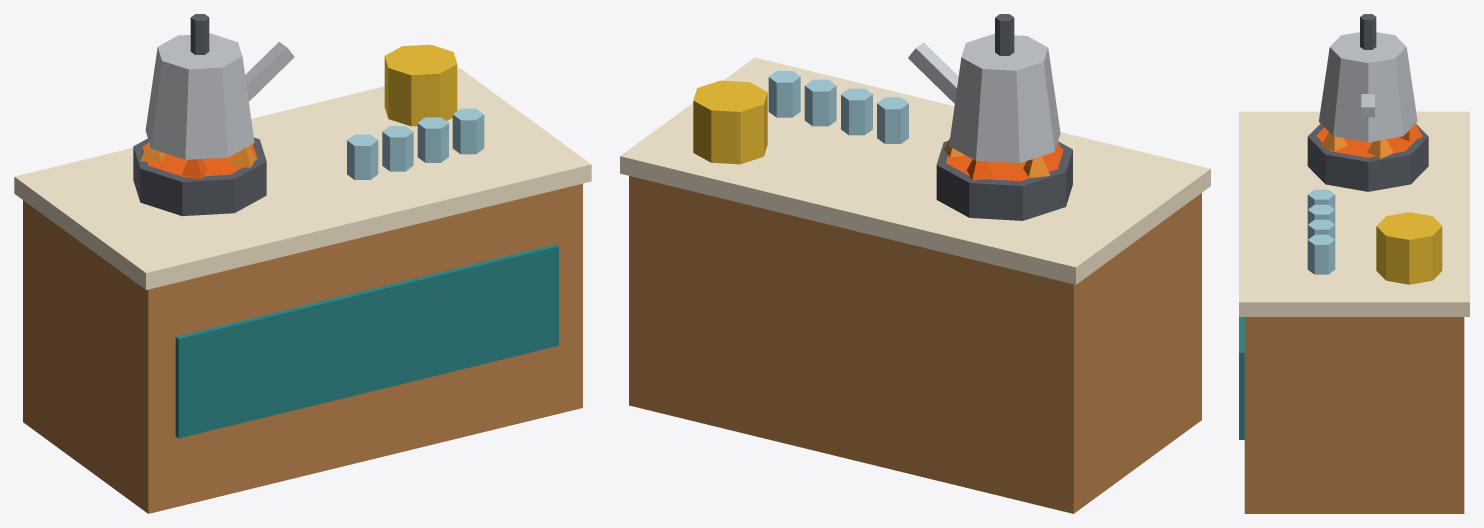
File: station_chai.glb
3 renders of one model, left to right at view 1: azimuth 30°, elevation 25°; view 2: azimuth 150°, elevation 25°; view 3: azimuth 270°, elevation 25°, orthographic. The views are drawn at different scales.
Parts seen in each view (by area): view 1: station_chai; view 2: station_chai; view 3: station_chai.
Part boxes in pixels (x1,y1,x2,y2): station_chai: (14,14,591,513); station_chai: (620,14,1210,513); station_chai: (1239,14,1469,513).
Size of the model in its own units: 1.64 by 1.46 by 0.84.
1 material, 1 textured.
